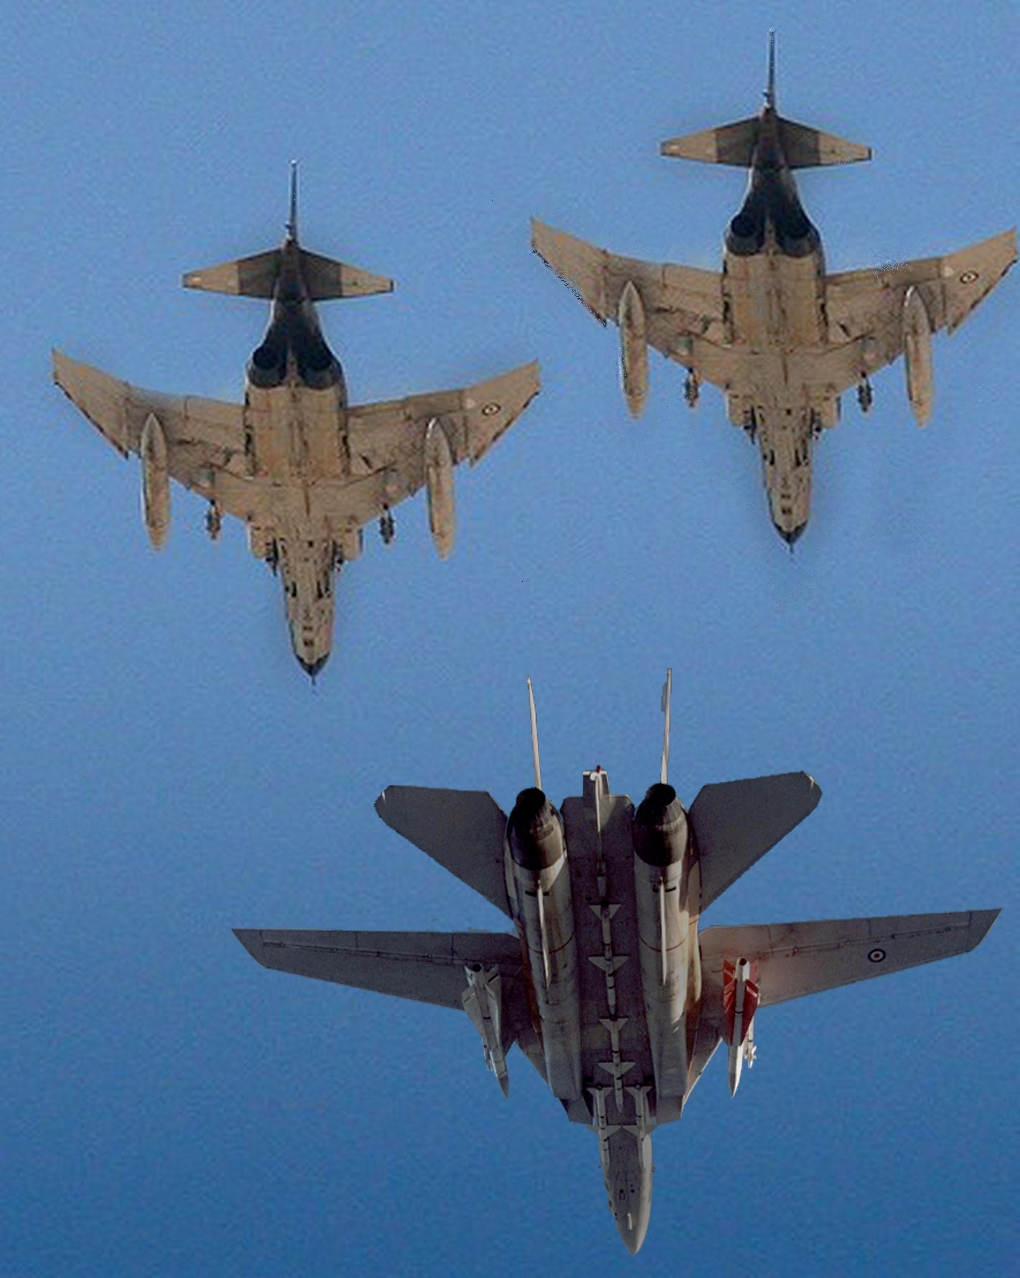F14: (230, 667, 1003, 1257)
F4: (49, 157, 542, 686), (528, 28, 1019, 555)
